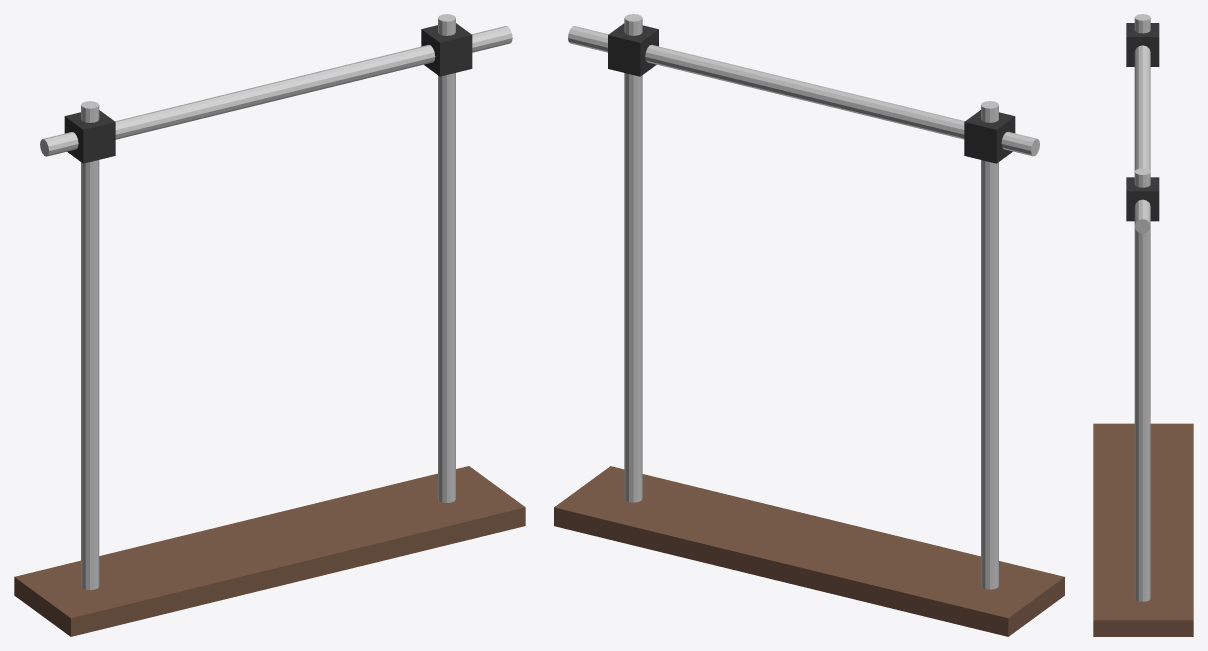
The picture shows the model from 3 angles, left to right: view 1: azimuth 30°, elevation 25°; view 2: azimuth 150°, elevation 25°; view 3: azimuth 270°, elevation 25°; orthographic projection. The views are drawn at different scales.
Visible parts, largest first — view 1: Cube; view 2: Cube; view 3: Cube.
Part boxes in pixels (x1,y1,x2,y2): Cube: (14, 14, 525, 636); Cube: (554, 14, 1064, 636); Cube: (1093, 14, 1193, 636).
Size of the model in its own units: 0.6096 by 0.1285 by 0.6265.
